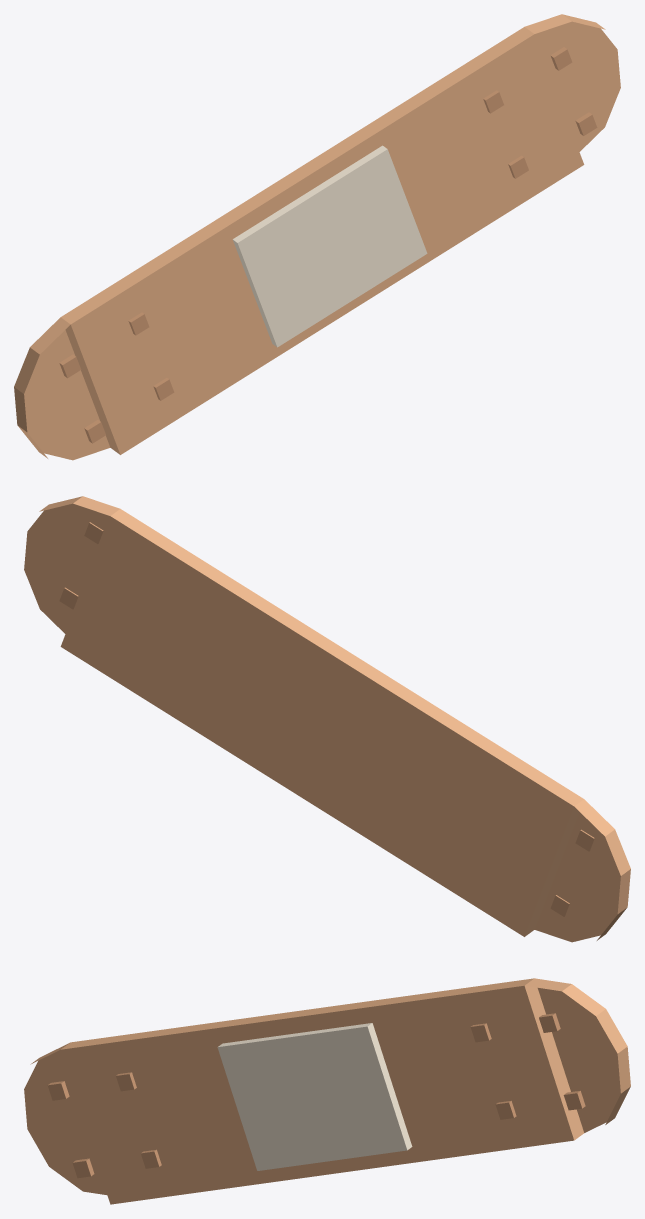
Rendered from plaster.glb.
3 renders of one model, top to bottom at view 1: azimuth 30°, elevation 25°; view 2: azimuth 150°, elevation 25°; view 3: azimuth 330°, elevation 25°, orthographic.
Parts seen in each view (by area): view 1: plaster; view 2: plaster; view 3: plaster.
Part boxes in pixels (<box>): plaster: <box>14,14,620,460</box>; plaster: <box>24,496,630,942</box>; plaster: <box>24,978,630,1204</box>.
Bounding box in the file's own units: 0.4179 × 0.2151 × 0.018.
